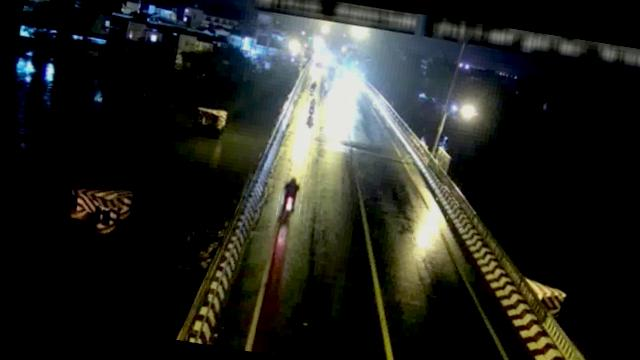Bike: (275, 172, 305, 219), (306, 96, 320, 116), (306, 76, 320, 92)
